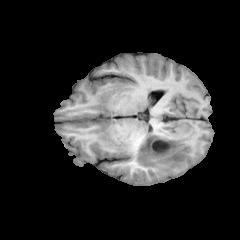glioma: (103, 135, 192, 171)
